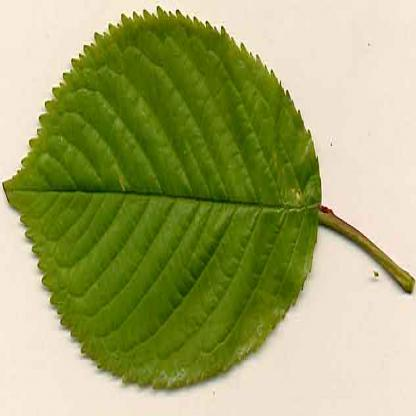cherry leaf: (1, 7, 357, 404)
